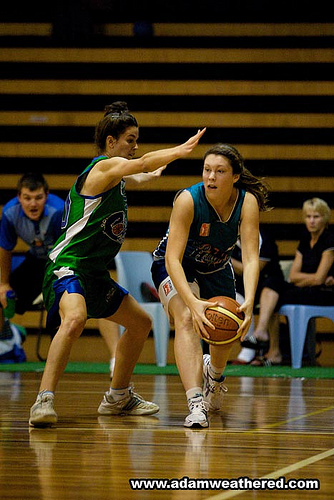basketball: (199, 297, 240, 347)
